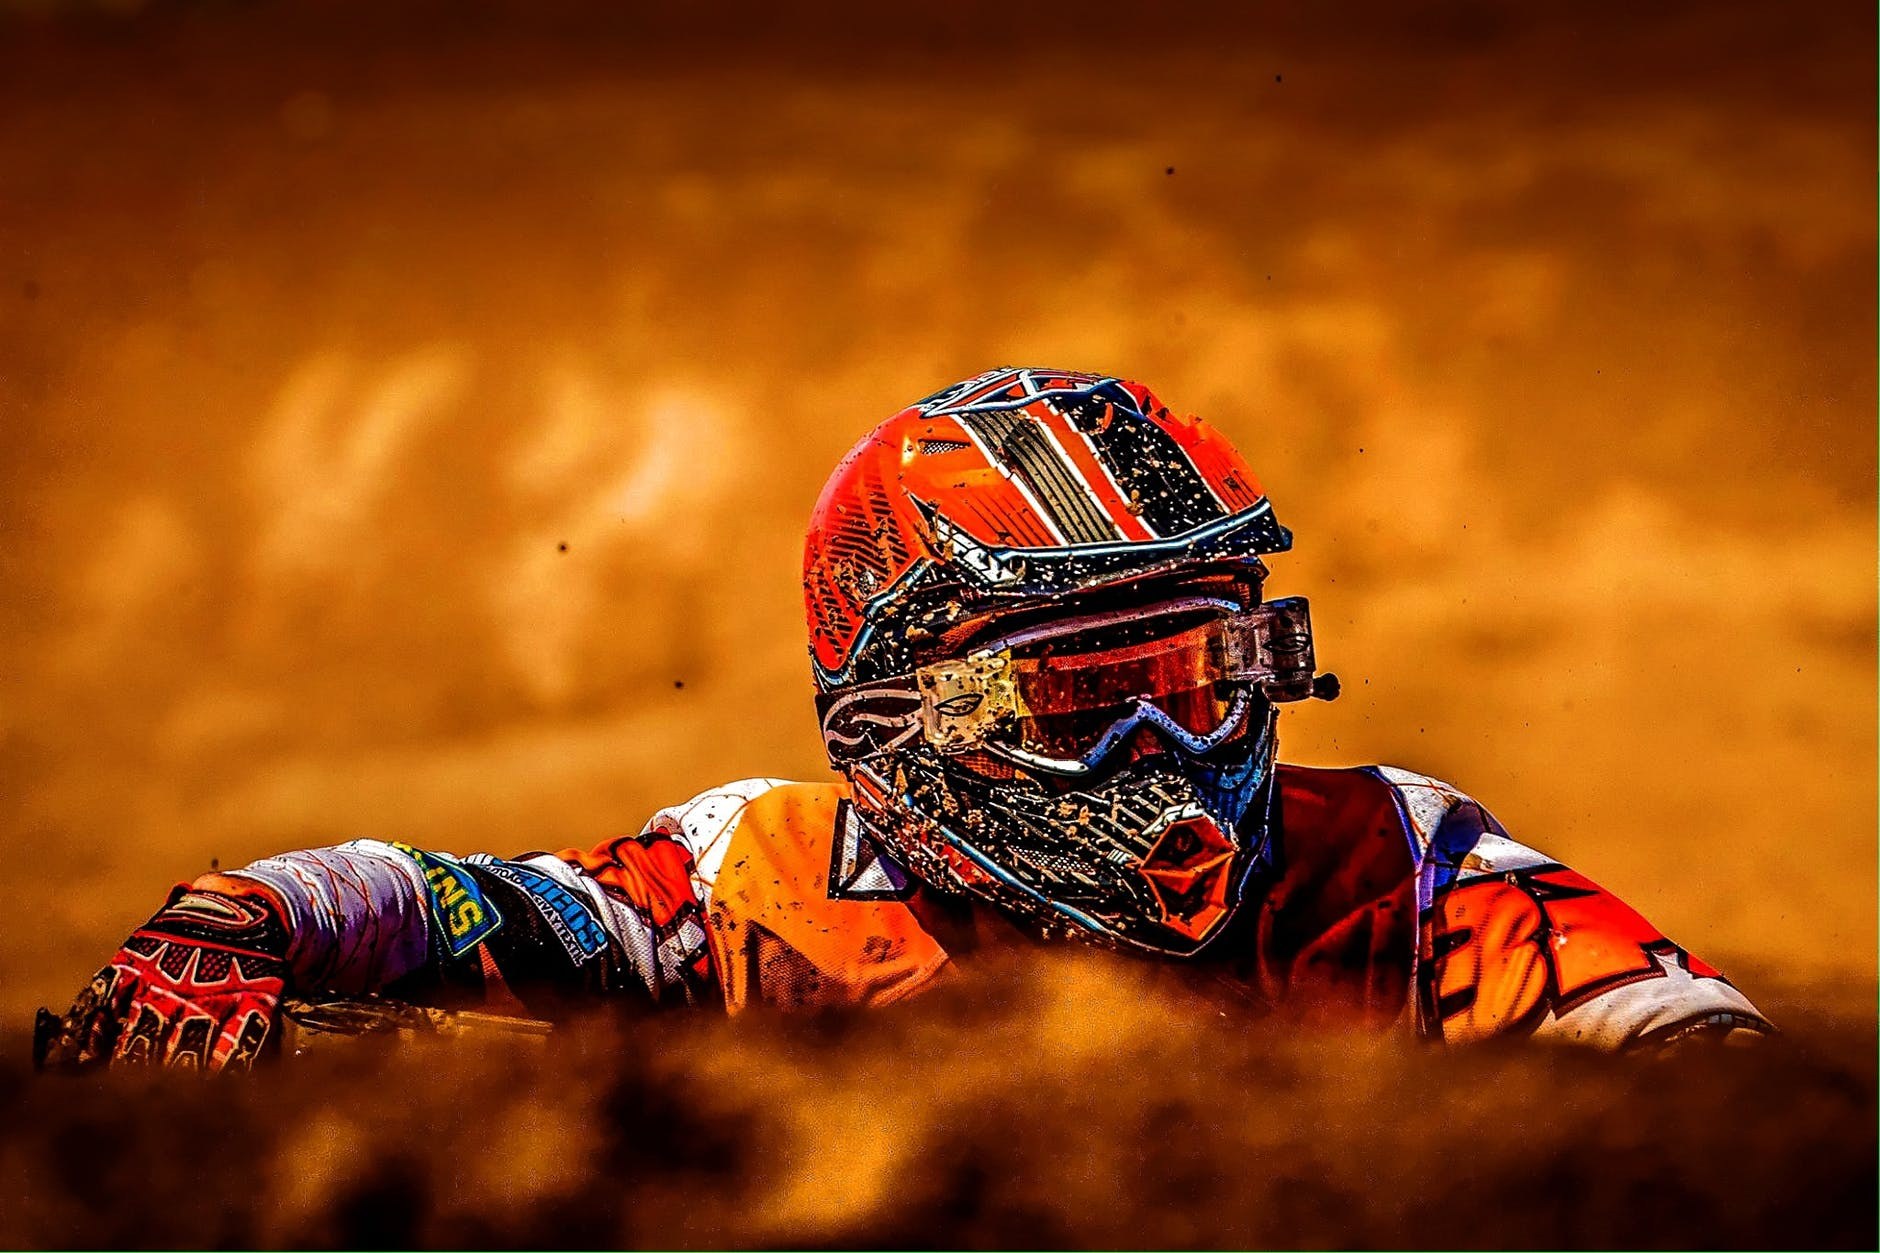helmet: (809, 390, 1278, 934)
